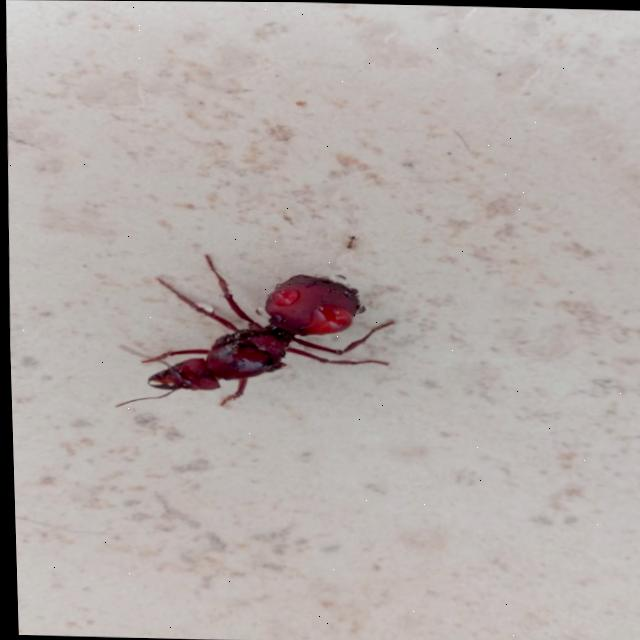Alive-Female-Dealate: (109, 252, 396, 413)
